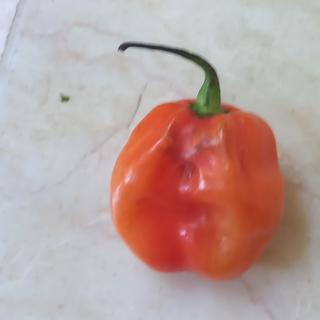Grade-B: (104, 95, 287, 283)
